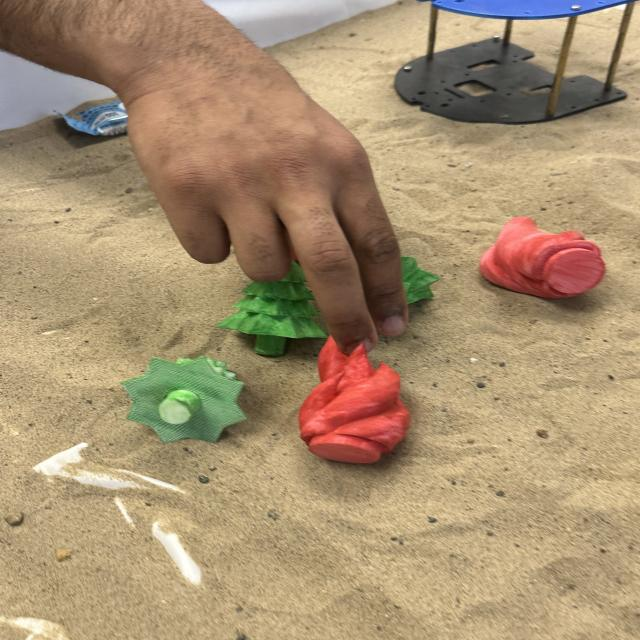fire: (295, 333, 413, 465), (476, 214, 612, 303)
tree: (125, 356, 248, 442), (218, 267, 320, 358), (400, 252, 438, 309)
